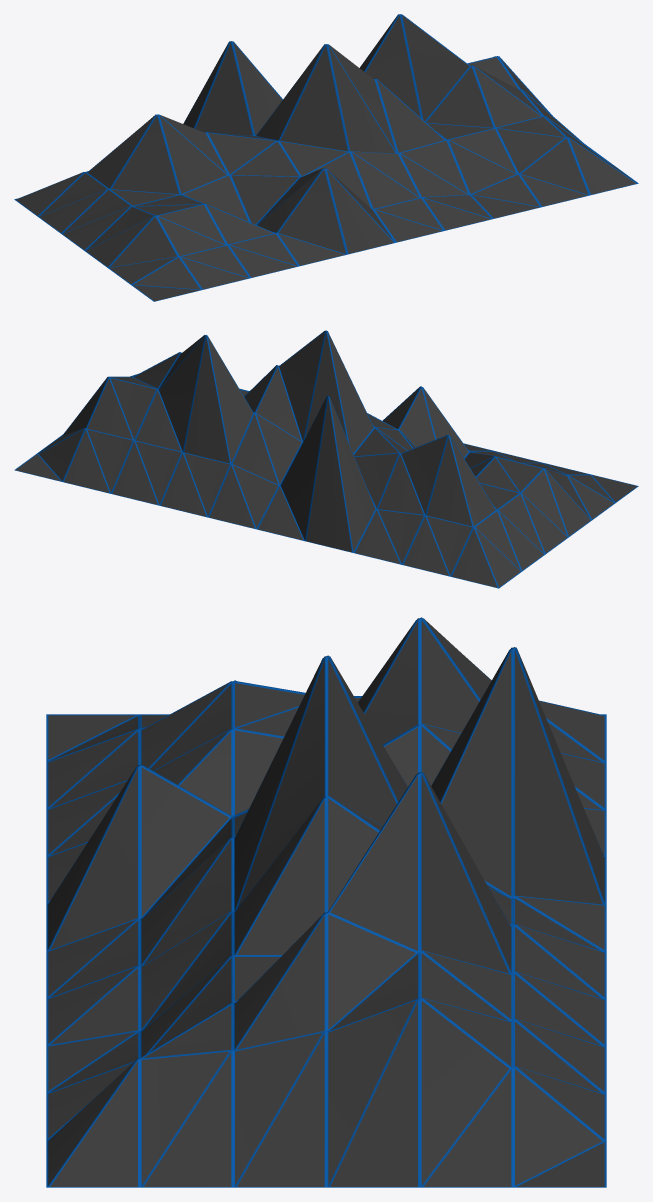
File: mountain1.fbx
3 views of the same model, one above another, from view 1: azimuth 30°, elevation 25°; view 2: azimuth 150°, elevation 25°; view 3: azimuth 270°, elevation 25° (orthographic). The views are drawn at different scales.
Visible parts, largest first — view 1: pPlane1; view 2: pPlane1; view 3: pPlane1.
Boxes of the visible parts, <box> form: pPlane1: <box>14,14,638,301</box>; pPlane1: <box>14,330,638,588</box>; pPlane1: <box>46,617,606,1187</box>.
Size of the model in its own units: 100 by 28.95 by 50.
